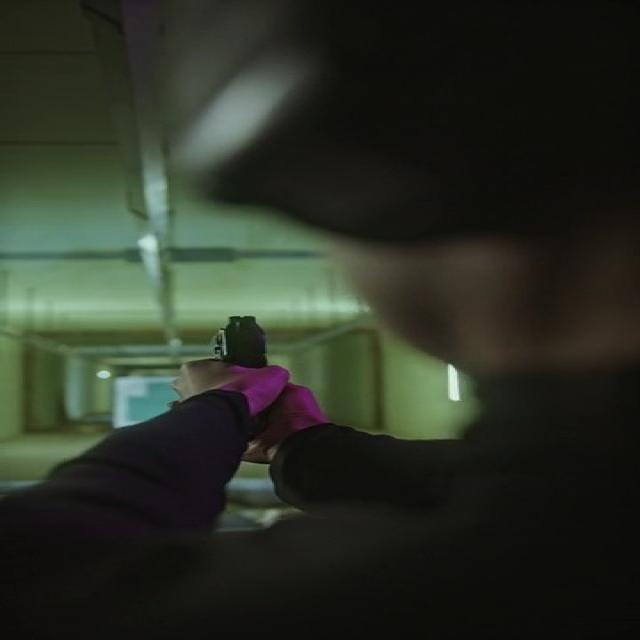Gun_Holder: (147, 309, 362, 450)
